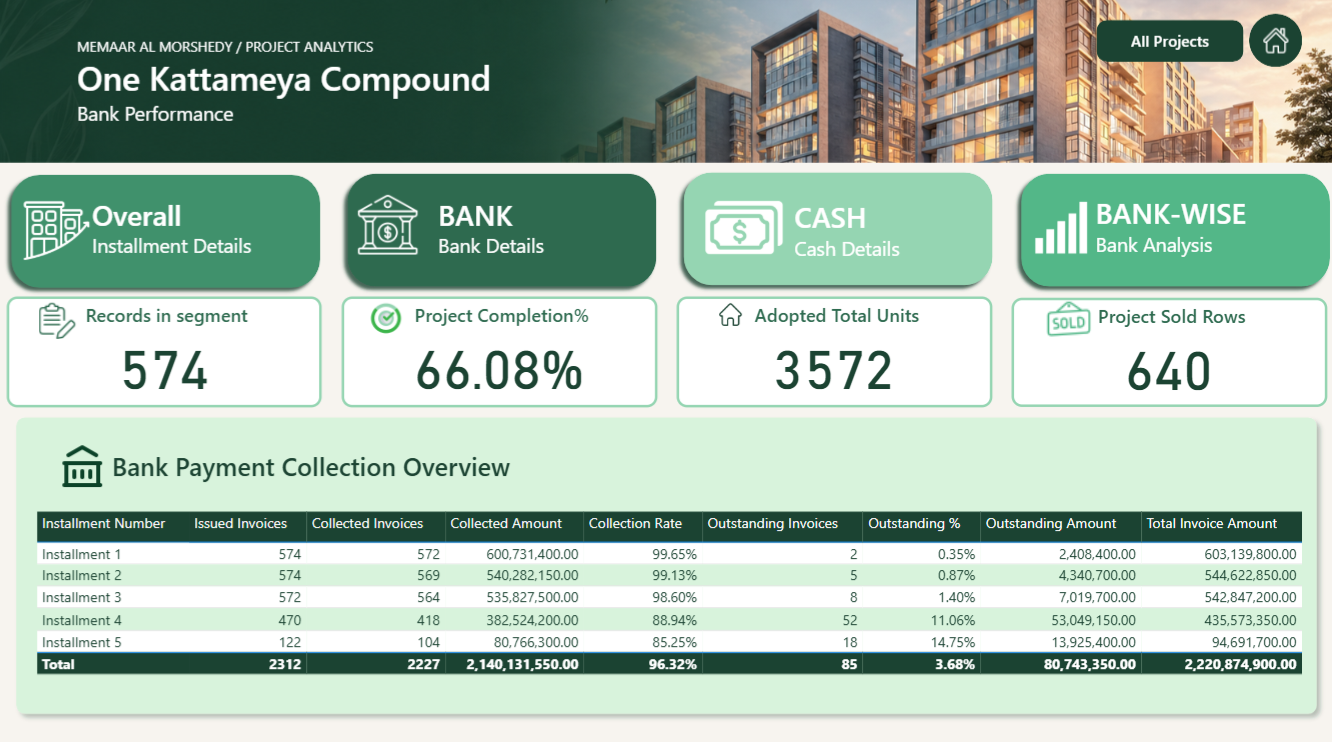

Layout of this report page (visuals, bound fields, positions):
{"tool":"powerbi","page":{"name":"Rihana-Bank","canvas":[1280,720],"ordinal":10},"visuals":[{"type":"image","box":[0,0,1280.3,166],"z":0},{"type":"actionButton","box":[969.9,163.3,310.1,123.5],"z":0,"group":"g13"},{"type":"card","title":"Records in segment","fields":{"Values":["Fact_Installment.Total Sold Units"]},"box":[12.3,288.2,300,105.7],"z":0,"group":"g1"},{"type":"shape","box":[7.8,395.4,1261.1,307.4],"z":0,"group":"g7"},{"type":"textbox","box":[74.1,35.7,548.9,96.1],"z":1000},{"type":"actionButton","box":[649.3,161.9,310.1,123.5],"z":1000,"group":"g11"},{"type":"image","box":[341.6,178.4,66.7,82.3],"z":1000,"group":"g4"},{"type":"image","box":[667.8,178.5,92.7,87.8],"z":1000,"group":"g6"},{"type":"image","box":[981.9,191.9,70,63.1],"z":1000,"group":"g8"},{"type":"image","box":[38.4,289.6,43.9,43.9],"z":1000,"group":"g1"},{"type":"tableEx","fields":{"Values":["Fact_Installment.Installment Number","Fact_Installment.Issued Invoices","Fact_Installment.Collected Invoices","Fact_Installment.Collected Amount","Fact_Installment.Collection Rate","Fact_Installment.Outstanding Invoices","Fact_Installment.Outstanding %","Fact_Installment.Outstanding Amount","Fact_Installment.Total Invoice Amount"]},"box":[33.9,472.2,1219.9,211.3],"z":1000,"group":"g7"},{"type":"actionButton","title":"Back to Home","box":[1195.2,19.2,50.8,50.8],"z":2000},{"type":"actionButton","box":[8.2,164.7,310.1,123.5],"z":2000,"group":"g9"},{"type":"textbox","box":[1043.9,185.9,156.4,75.5],"z":2000,"group":"g8"},{"type":"textbox","box":[418,186.6,125.9,82.3],"z":2000,"group":"g4"},{"type":"textbox","box":[87.8,188.3,170.2,76.8],"z":2000,"group":"g12"},{"type":"textbox","box":[757,188.8,119.4,71.4],"z":2000,"group":"g6"},{"type":"textbox","box":[107.9,428.2,465.4,46.7],"z":2000,"group":"g7"},{"type":"shape","box":[1049.7,24.7,140,39.8],"z":3000},{"type":"actionButton","box":[328.8,163.3,310.1,123.5],"z":3000,"group":"g10"},{"type":"group","id":"g1","title":"Group 4","box":[12.3,288.2,300,105.7],"z":4000},{"type":"card","title":"Project Completion%","fields":{"Values":["Fact_Installment.Project Completion %"]},"box":[330.8,288.2,300.5,105.7],"z":4000,"group":"g2"},{"type":"group","id":"g2","title":"Group 5","box":[330.8,288.2,300.5,105.7],"z":5000},{"type":"card","title":"Project Sold Rows","fields":{"Values":["Fact_Installment.Records in current segment"]},"box":[968.8,289.5,300.5,104.3],"z":5000,"group":"g5"},{"type":"group","id":"g3","title":"Group 6","box":[649.8,285.4,300.5,108.4],"z":6000},{"type":"card","title":"Adopted Total Units","fields":{"Values":["Fact_Installment.Total Units"]},"box":[649.8,288.1,300.5,105.7],"z":6000,"group":"g3"},{"type":"group","id":"g4","title":"Group 1","box":[341.6,178.4,202.4,90.6],"z":7000,"group":"g10"},{"type":"group","id":"g5","title":"Group 7","box":[968.8,285.4,300.5,108.4],"z":7000},{"type":"image","box":[348.5,289.6,48,39.8],"z":7020,"group":"g2"},{"type":"image","box":[997.6,285.4,52.1,52.1],"z":7022,"group":"g5"},{"type":"image","box":[686.1,285.4,31.6,39.8],"z":7023,"group":"g3"},{"type":"group","id":"g6","title":"Group 2","box":[667.8,178.5,208.6,87.8],"z":8000,"group":"g11"},{"type":"group","id":"g7","title":"Group 8","box":[7.8,395.4,1261.1,307.4],"z":8000},{"type":"group","id":"g8","title":"Group 3","box":[981.9,185.9,218.4,75.5],"z":9000,"group":"g13"},{"type":"actionButton","box":[57.6,421.3,53.5,53.5],"z":9000},{"type":"group","id":"g9","title":"Group 11","box":[8.2,164.7,310.1,123.5],"z":10000},{"type":"group","id":"g10","title":"Group 12","box":[328.8,163.3,310.1,123.5],"z":11000},{"type":"group","id":"g11","title":"Group 13","box":[649.3,161.9,310.1,123.5],"z":12000},{"type":"group","id":"g12","title":"Group 1","box":[87.8,188.3,170.2,76.8],"z":12000,"group":"g14"},{"type":"group","id":"g13","title":"Group 14","box":[969.9,163.3,310.1,123.5],"z":13000},{"type":"image","box":[20.2,166.4,78.5,119.4],"z":13000,"group":"g14"},{"type":"group","id":"g14","title":"Group 10","box":[20.2,166.4,237.8,119.4],"z":13002,"group":"g15"},{"type":"group","id":"g15","title":"Group 9","box":[20.2,166.4,237.8,119.4],"z":16000,"group":"g9"}]}

Visuals, with their boxes in screenshot pixels (x1, y1, x2, y2), scaled from the page's 1280x720 canvas onto the 1332x742 screenshot:
image: crop(0, 0, 1331, 171)
actionButton: crop(1009, 168, 1331, 296)
"Records in segment" card: crop(13, 297, 325, 406)
shape: crop(8, 407, 1320, 724)
textbox: crop(77, 37, 648, 136)
actionButton: crop(676, 167, 998, 294)
image: crop(355, 184, 425, 269)
image: crop(695, 184, 791, 274)
image: crop(1022, 198, 1095, 263)
image: crop(40, 298, 86, 344)
tableEx - Fact_Installment.Installment Number x Fact_Installment.Issued Invoices: crop(35, 487, 1305, 704)
"Back to Home" actionButton: crop(1244, 20, 1297, 72)
actionButton: crop(9, 170, 331, 297)
textbox: crop(1086, 192, 1249, 269)
textbox: crop(435, 192, 566, 277)
textbox: crop(91, 194, 268, 273)
textbox: crop(788, 195, 912, 268)
textbox: crop(112, 441, 597, 489)
shape: crop(1092, 25, 1238, 66)
actionButton: crop(342, 168, 665, 296)
"Group 4" group: crop(13, 297, 325, 406)
"Project Completion%" card: crop(344, 297, 657, 406)
"Group 5" group: crop(344, 297, 657, 406)
"Project Sold Rows" card: crop(1008, 298, 1321, 406)
"Group 6" group: crop(676, 294, 989, 406)
"Adopted Total Units" card: crop(676, 297, 989, 406)
"Group 1" group: crop(355, 184, 566, 277)
"Group 7" group: crop(1008, 294, 1321, 406)
image: crop(363, 298, 413, 339)
image: crop(1038, 294, 1092, 348)
image: crop(714, 294, 747, 335)
"Group 2" group: crop(695, 184, 912, 274)
"Group 8" group: crop(8, 407, 1320, 724)
"Group 3" group: crop(1022, 192, 1249, 269)
actionButton: crop(60, 434, 116, 489)
"Group 11" group: crop(9, 170, 331, 297)
"Group 12" group: crop(342, 168, 665, 296)
"Group 13" group: crop(676, 167, 998, 294)
"Group 1" group: crop(91, 194, 268, 273)
"Group 14" group: crop(1009, 168, 1331, 296)
image: crop(21, 171, 103, 295)
"Group 10" group: crop(21, 171, 268, 295)
"Group 9" group: crop(21, 171, 268, 295)
